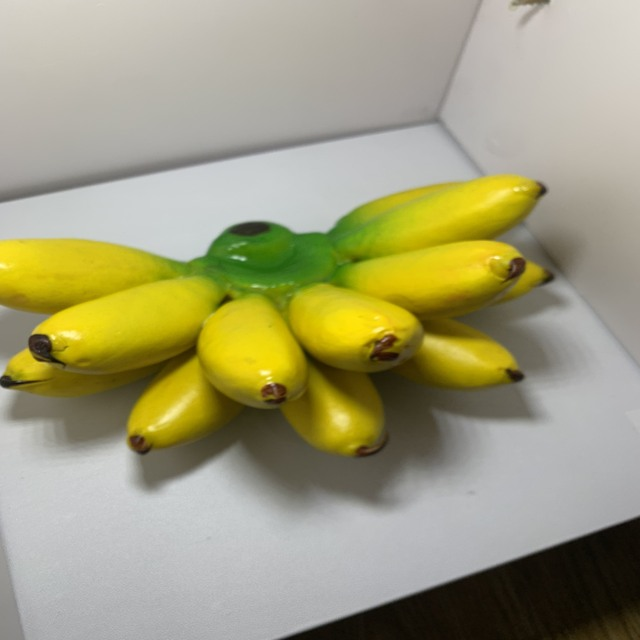Chuoi: (0, 169, 559, 469)
